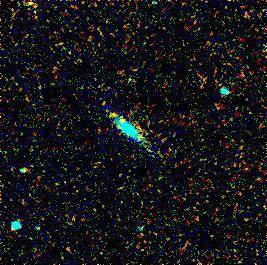star: (99, 99, 129, 129)
